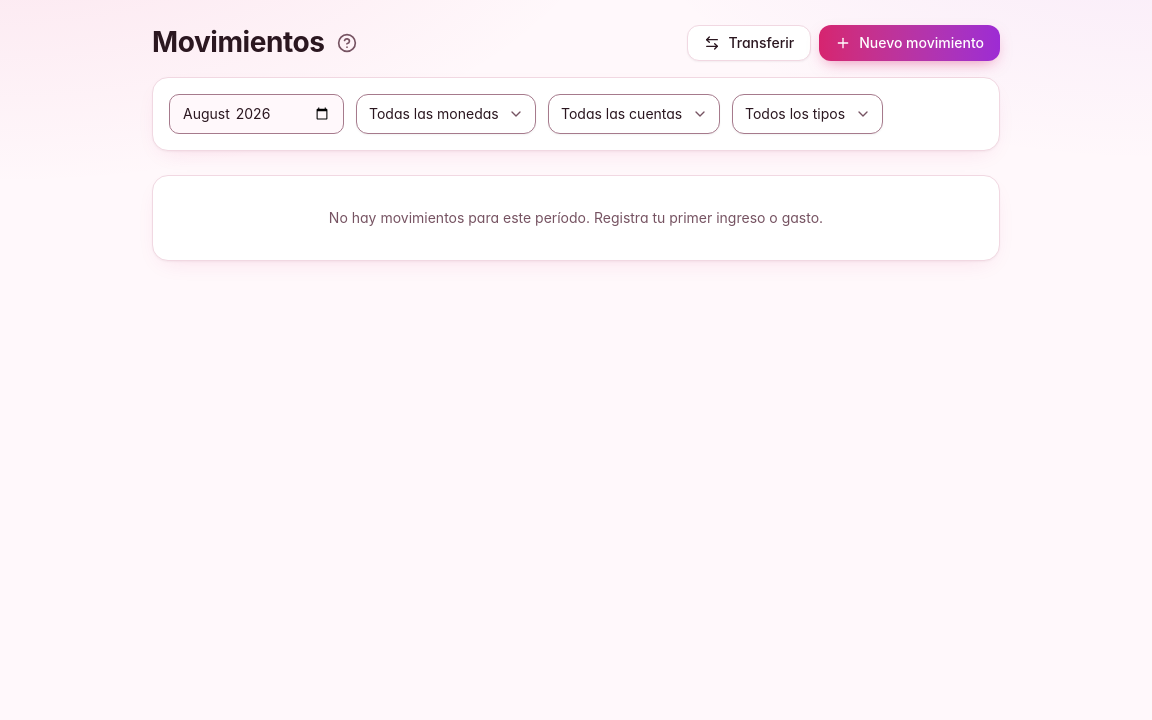
Test case: Transactions — formularios › abrir «Nuevo movimiento» sigue funcionando con el mes en la URL
Click the button "Nuevo movimiento" at (910, 43), box [819, 25, 1000, 61]
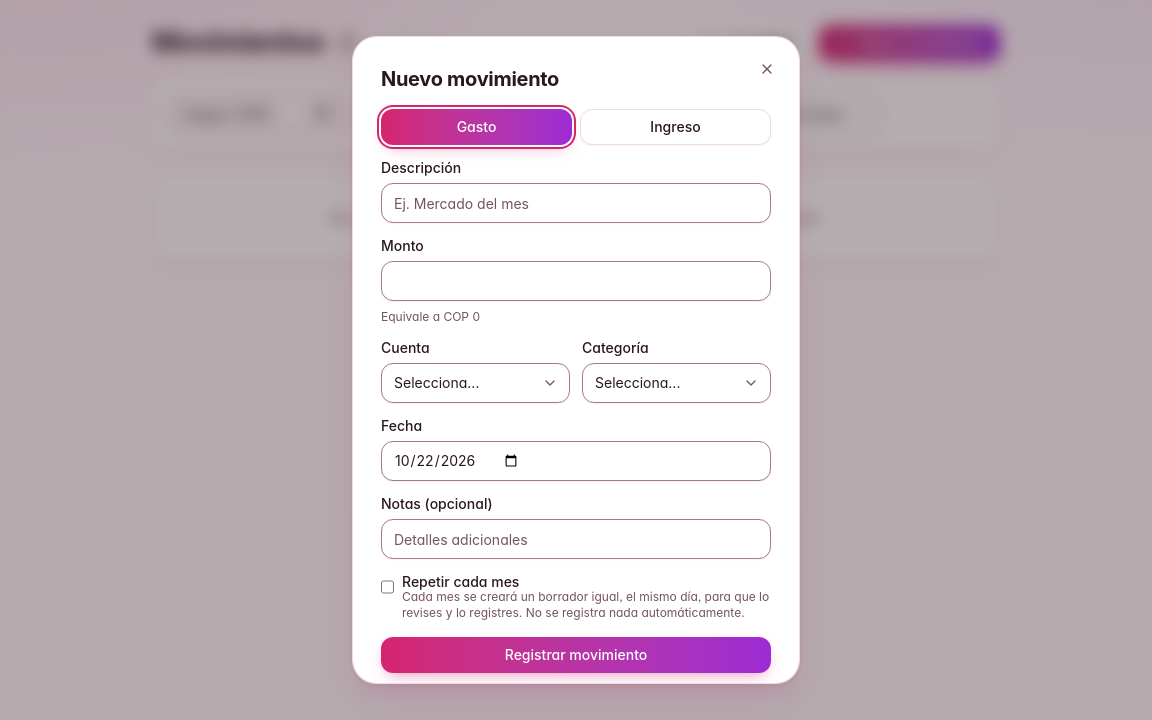
Expected: the heading "Nuevo movimiento" is shown, [381, 67, 559, 91]
